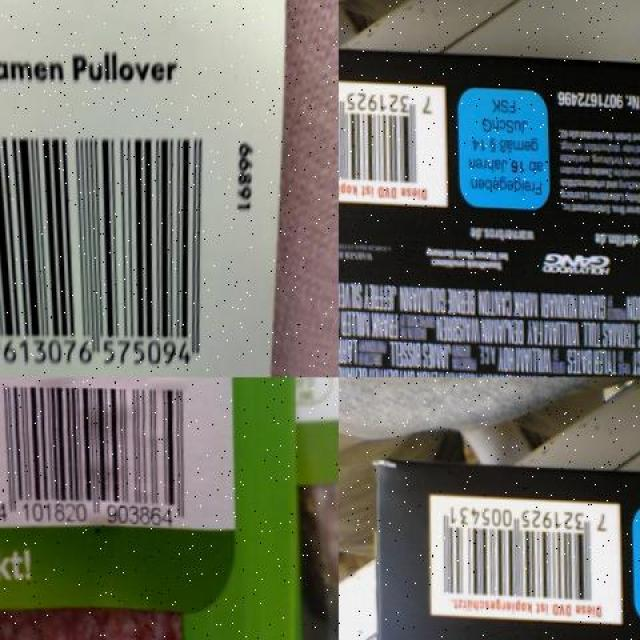Barcode: (0, 123, 220, 377), (0, 377, 191, 532), (422, 492, 622, 629), (338, 74, 446, 210)
